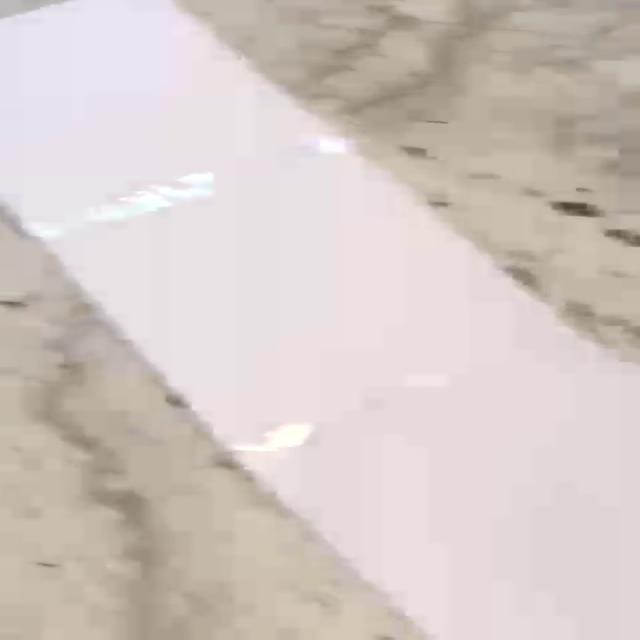road: (0, 1, 639, 640)
